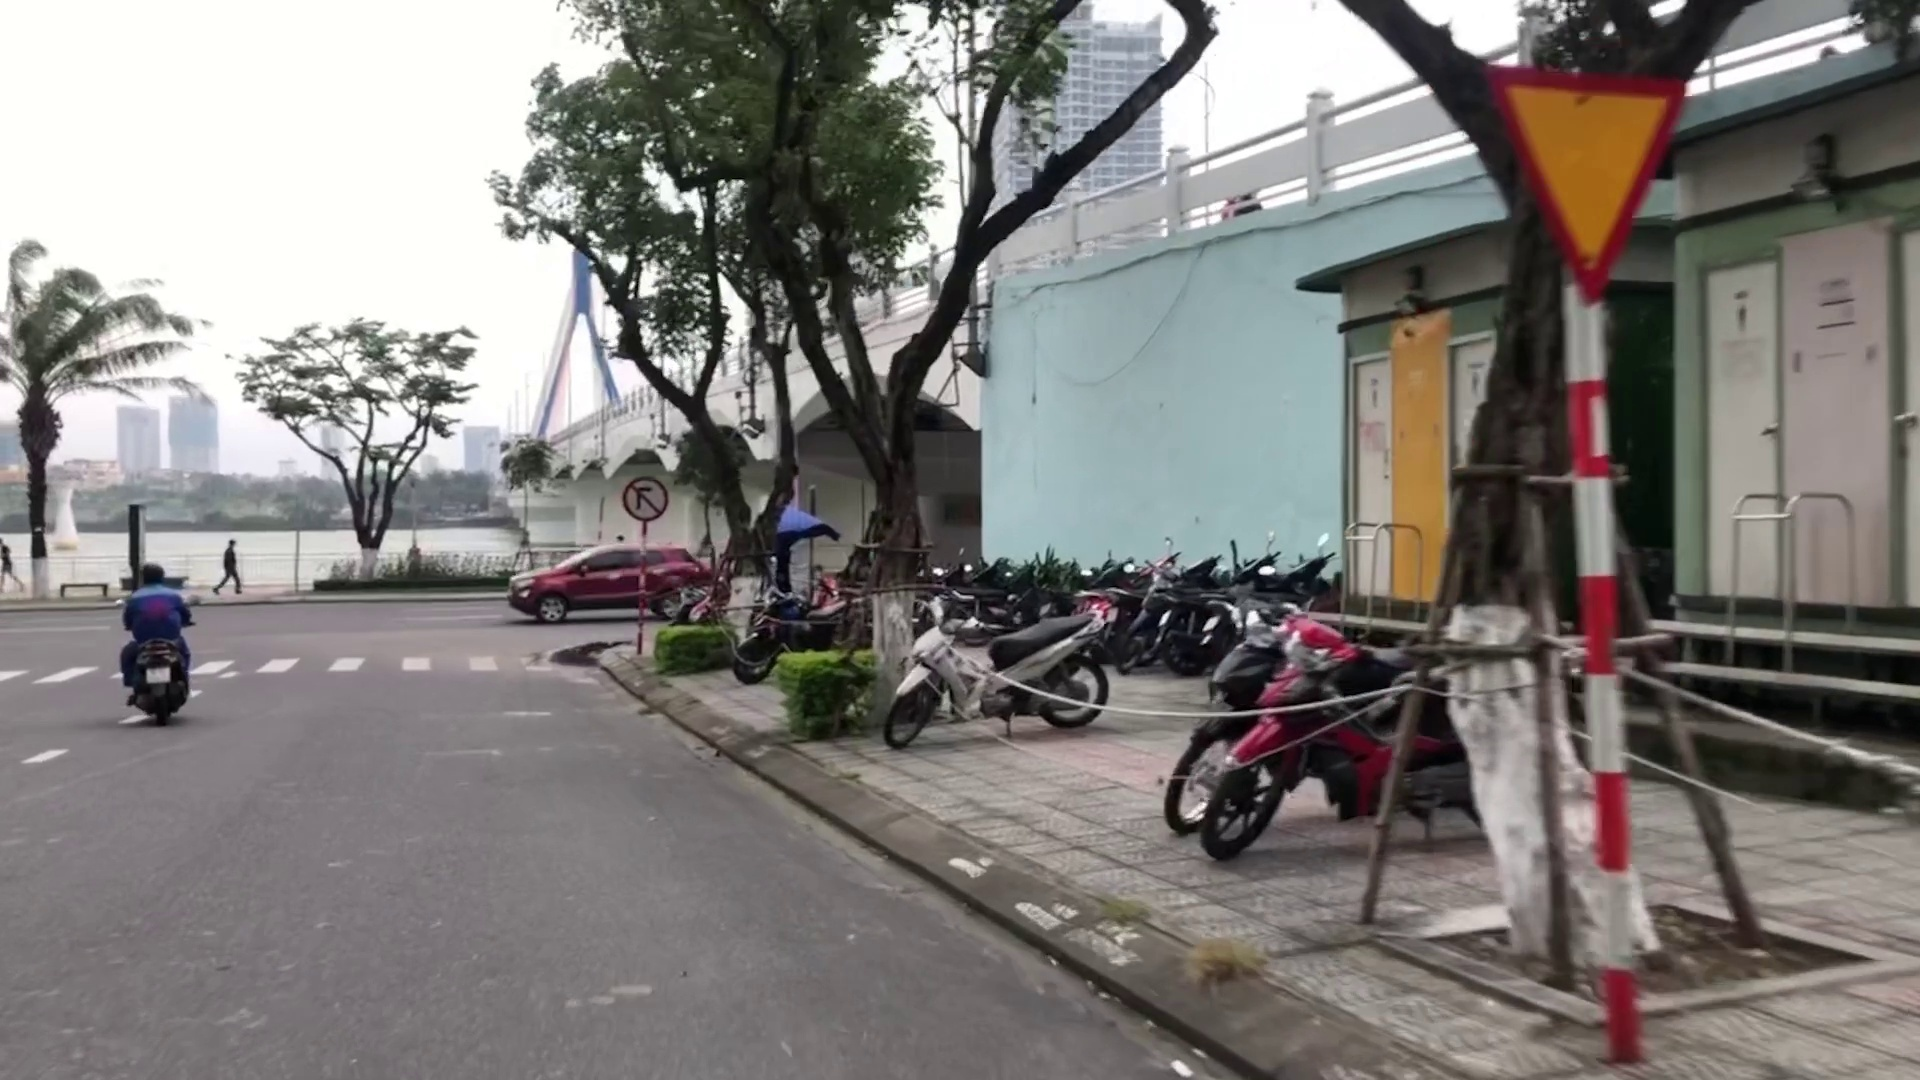Bien khac: (1486, 63, 1693, 309), (621, 473, 667, 522)
